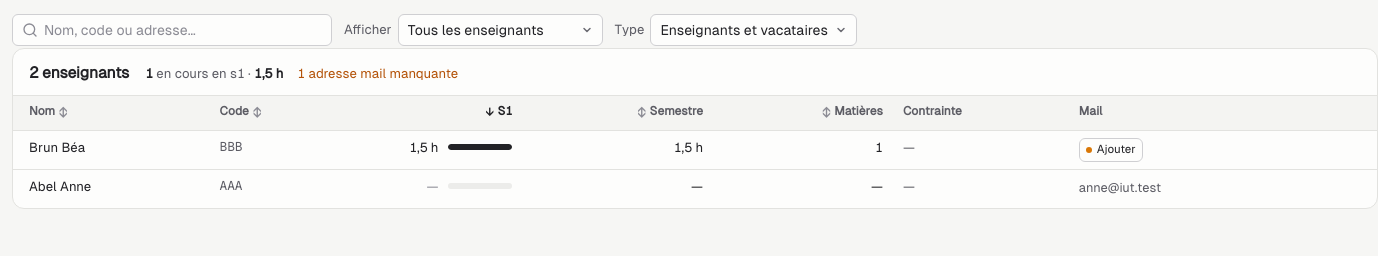
Scenario: AnnuaireEnseignants — compléter un mail manquant › refuse une adresse mal formée sans appeler le serveur
The image size is (1378, 256).
Click the button with aria-label "Ajouter — Adresse mail de Brun Béa" at (1111, 150), box x1=1079 y1=138 x2=1143 y2=162
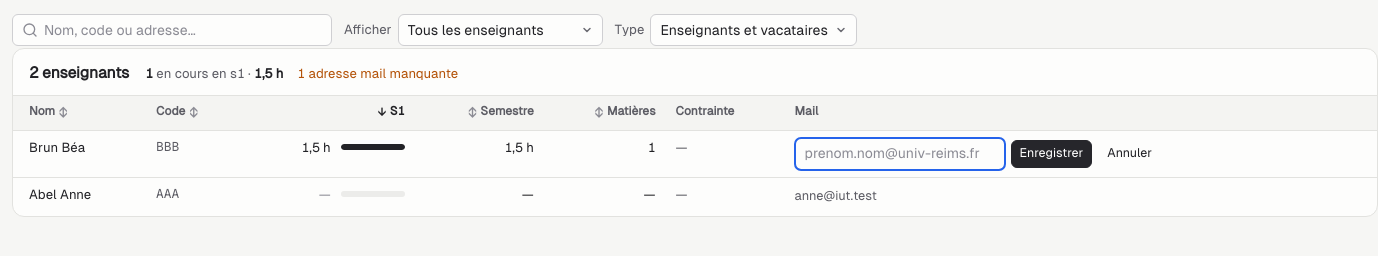
Type "bea.brun" into the field named "Adresse mail de Brun Béa" at (900, 154), box x1=795 y1=138 x2=1005 y2=170
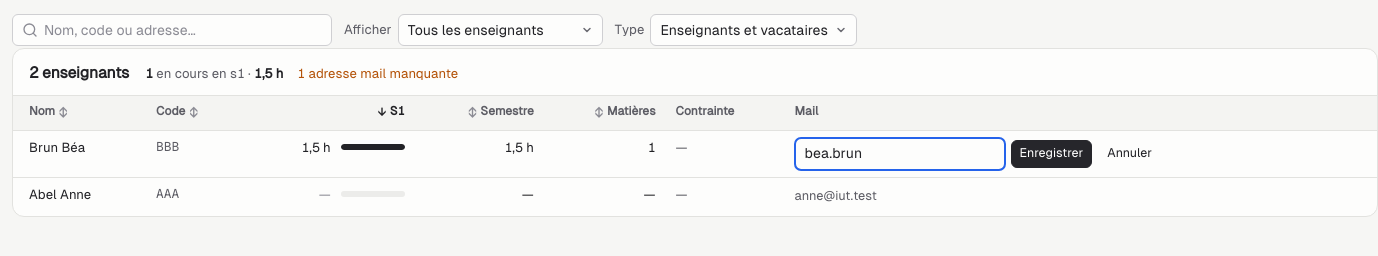
Submit the form named "Adresse mail de Brun Béa", box x1=795 y1=138 x2=1161 y2=170
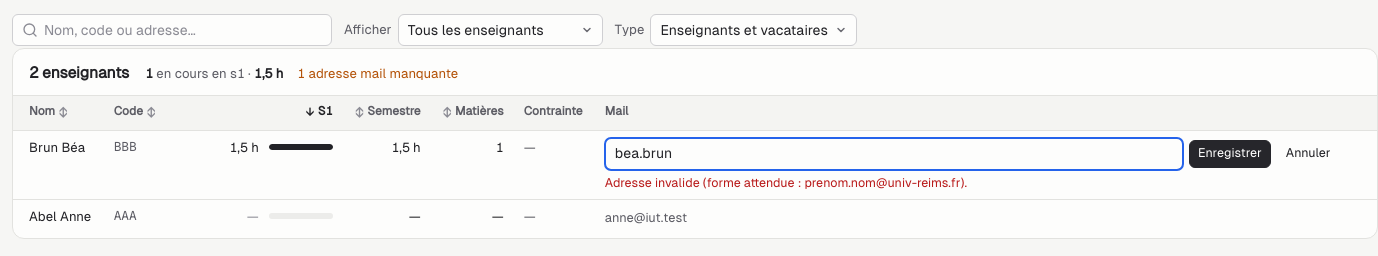
Check: the message shows "Adresse invalide", box x1=605 y1=176 x2=967 y2=190
